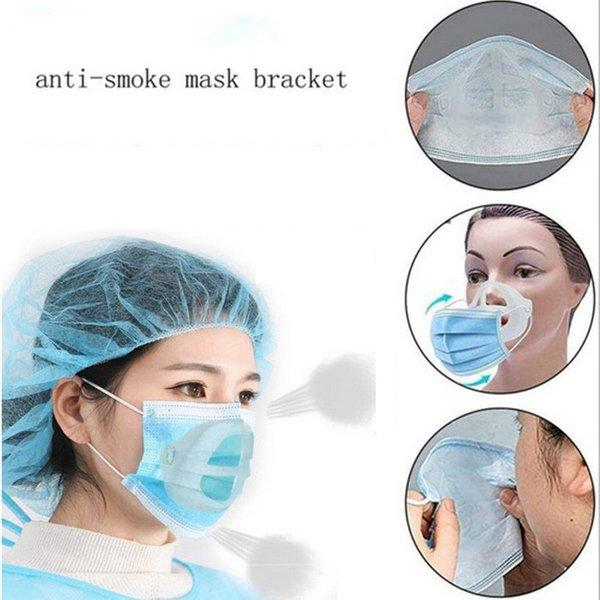hairnet: (17, 199, 279, 494)
mask: (117, 379, 298, 542)
